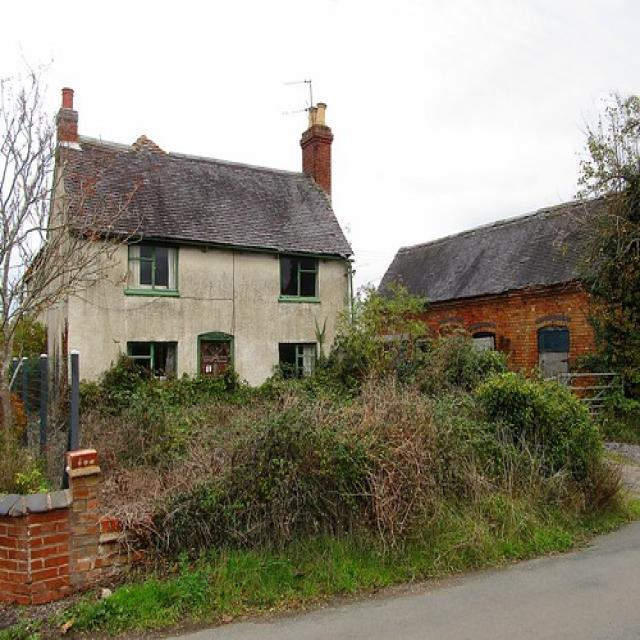Normal_building: (18, 80, 366, 449), (372, 181, 639, 443)
